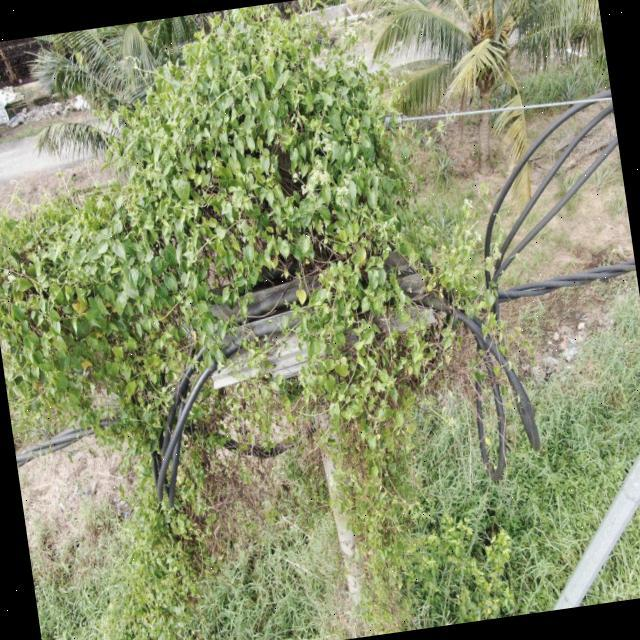critical vegetation: (0, 35, 541, 600)
